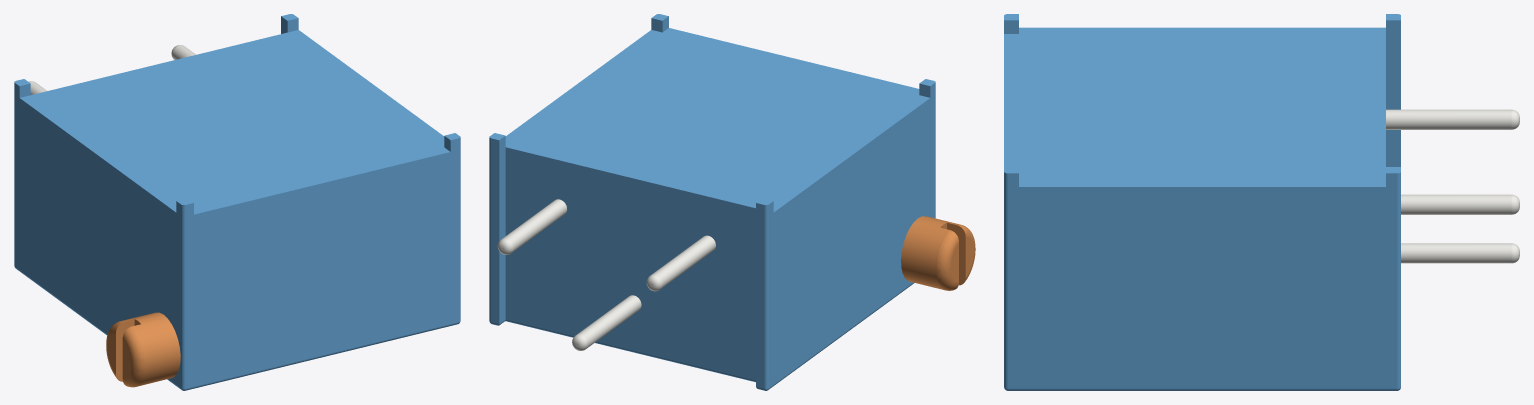
Rendered from Potentiometer_Bourns_3299Z_Horizontal.glb.
The picture shows the model from 3 angles, left to right: view 1: azimuth 30°, elevation 25°; view 2: azimuth 150°, elevation 25°; view 3: azimuth 270°, elevation 25°; orthographic projection. The views are drawn at different scales.
Parts seen in each view (by area): view 1: Shape_IndexedFaceSet.015, Shape_IndexedFaceSet.028, Shape_IndexedFaceSet.019, Shape_IndexedFaceSet.020, Shape_IndexedFaceSet.032, Shape_IndexedFaceSet.044, Shape_IndexedFaceSet.005, Shape_IndexedFaceSet.041; view 2: Shape_IndexedFaceSet.028, Shape_IndexedFaceSet.014, Shape_IndexedFaceSet.019, Shape_IndexedFaceSet.020, Shape_IndexedFaceSet.021, Shape_IndexedFaceSet.009, Shape_IndexedFaceSet.030, Shape_IndexedFaceSet.031, Shape_IndexedFaceSet.011, Shape_IndexedFaceSet.029, Shape_IndexedFaceSet.038, Shape_IndexedFaceSet.042 (+2 smaller); view 3: Shape_IndexedFaceSet.012, Shape_IndexedFaceSet.028, Shape_IndexedFaceSet.029, Shape_IndexedFaceSet.030, Shape_IndexedFaceSet.031, Shape_IndexedFaceSet.017, Shape_IndexedFaceSet.003, Shape_IndexedFaceSet.022, Shape_IndexedFaceSet.025.
Boxes of the visible parts, x1,y1,x2,y2 form: Shape_IndexedFaceSet.015: (185,138,458,388); Shape_IndexedFaceSet.028: (20,30,449,214); Shape_IndexedFaceSet.019: (15,83,180,387); Shape_IndexedFaceSet.020: (122,312,180,386); Shape_IndexedFaceSet.032: (181,204,185,388); Shape_IndexedFaceSet.044: (122,326,144,387); Shape_IndexedFaceSet.005: (185,322,458,390); Shape_IndexedFaceSet.041: (116,319,134,381); Shape_IndexedFaceSet.028: (505,28,929,212); Shape_IndexedFaceSet.014: (505,147,755,380); Shape_IndexedFaceSet.019: (769,83,934,387); Shape_IndexedFaceSet.020: (901,216,959,289); Shape_IndexedFaceSet.021: (756,203,764,388); Shape_IndexedFaceSet.009: (491,138,499,323); Shape_IndexedFaceSet.030: (502,199,566,252); Shape_IndexedFaceSet.031: (577,295,641,348); Shape_IndexedFaceSet.011: (499,136,505,323); Shape_IndexedFaceSet.029: (651,235,715,288); Shape_IndexedFaceSet.038: (764,204,768,388); Shape_IndexedFaceSet.042: (936,230,958,290); Shape_IndexedFaceSet.012: (1008,173,1396,388); Shape_IndexedFaceSet.028: (1004,27,1385,186); Shape_IndexedFaceSet.029: (1386,109,1511,129); Shape_IndexedFaceSet.030: (1401,194,1511,214); Shape_IndexedFaceSet.031: (1401,243,1511,263); Shape_IndexedFaceSet.017: (1386,20,1400,166); Shape_IndexedFaceSet.003: (1008,388,1396,390); Shape_IndexedFaceSet.022: (1397,172,1400,388); Shape_IndexedFaceSet.025: (1004,172,1007,388).
Size of the model in its own units: 4.35 by 2.4 by 5.13.
